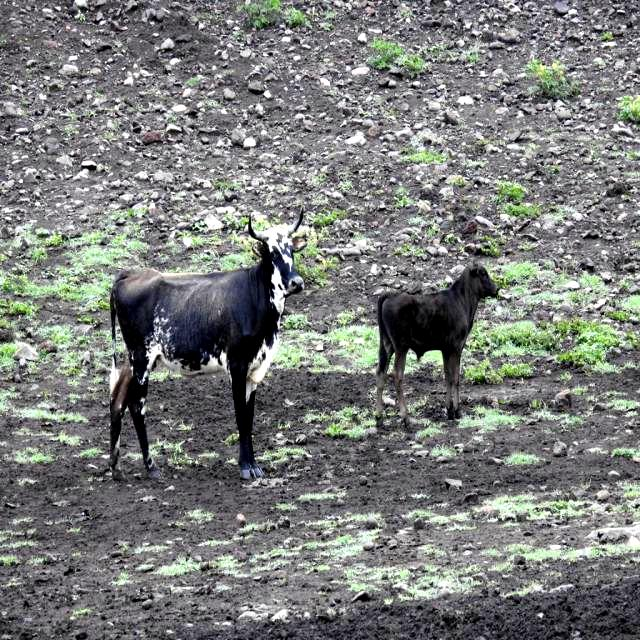COW: (111, 211, 305, 480), (378, 265, 498, 426)
